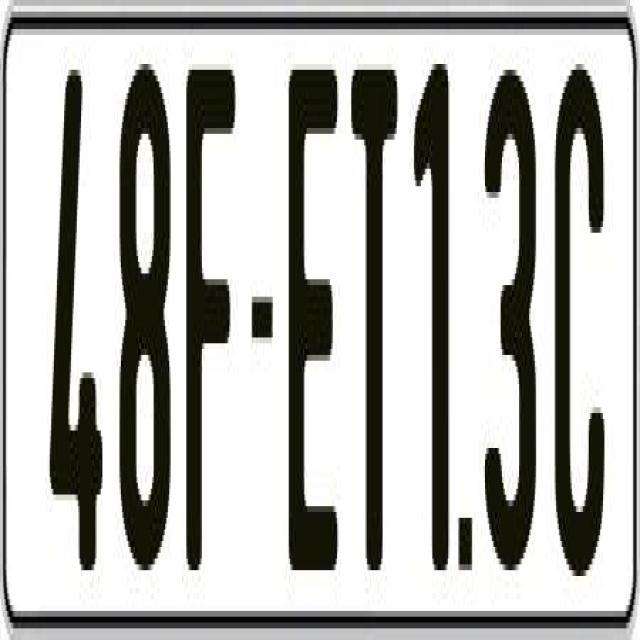1: (410, 58, 450, 582)
3: (483, 64, 542, 588)
4: (48, 70, 106, 582)
8: (120, 58, 180, 599)
C: (553, 52, 612, 588)
E: (288, 52, 342, 588)
F: (182, 58, 235, 588)
T: (350, 52, 396, 582)
